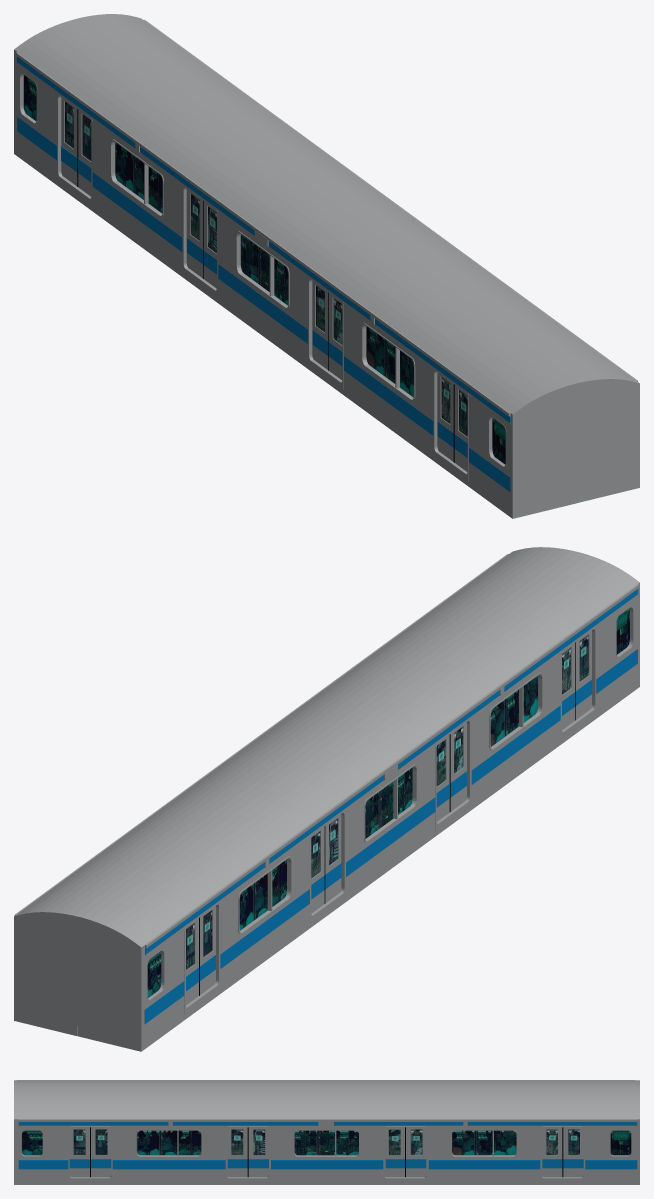
Rendered from trainG.glb.
3 renders of one model, top to bottom at view 1: azimuth 30°, elevation 25°; view 2: azimuth 150°, elevation 25°; view 3: azimuth 270°, elevation 25°, orthographic. The views are drawn at different scales.
Parts seen in each view (by area): view 1: train_bode.002, train_bode.001, 平面.001, ステッカー.005, 上ステッカー.002, 立方体.015, ステッカー.004, ドア.003, ドア.008, ドア.007, ドア.005, 立方体.026 (+5 smaller); view 2: train_bode.002, train_bode.001, 平面.001, ステッカー.005, 上ステッカー.002, 立方体.015, ステッカー.004, ドア.007, ドア.003, ドア.008, ドア.005, 立方体.026 (+5 smaller); view 3: train_bode.001, 平面, train_bode.002, ステッカー, 上ステッカー.001, 立方体.026, ステッカー.003, ドア.002, ドア.006, ドア.004, ドア.001, 立方体.031 (+8 smaller).
Boxes of the visible parts, left/top/right/bottom form: train_bode.002: left=14, top=18, right=576, bottom=518; train_bode.001: left=78, top=14, right=639, bottom=503; 平面.001: left=23, top=75, right=505, bottom=464; ステッカー.005: left=17, top=117, right=510, bottom=491; 上ステッカー.002: left=17, top=57, right=510, bottom=422; 立方体.015: left=16, top=52, right=510, bottom=416; ステッカー.004: left=60, top=146, right=467, bottom=457; ドア.003: left=186, top=189, right=216, bottom=288; ドア.008: left=437, top=372, right=467, bottom=471; ドア.007: left=312, top=281, right=342, bottom=380; ドア.005: left=61, top=97, right=91, bottom=196; 立方体.026: left=144, top=19, right=637, bottom=381; train_bode.002: left=77, top=551, right=639, bottom=1051; train_bode.001: left=14, top=547, right=575, bottom=1036; 平面.001: left=147, top=608, right=629, bottom=997; ステッカー.005: left=144, top=649, right=637, bottom=1023; 上ステッカー.002: left=145, top=589, right=638, bottom=954; 立方体.015: left=145, top=584, right=639, bottom=948; ステッカー.004: left=186, top=680, right=592, bottom=990; ドア.007: left=436, top=722, right=466, bottom=821; ドア.003: left=311, top=814, right=341, bottom=913; ドア.008: left=562, top=630, right=591, bottom=729; ドア.005: left=186, top=906, right=215, bottom=1005; 立方体.026: left=14, top=554, right=508, bottom=915; train_bode.001: left=14, top=1090, right=639, bottom=1184; 平面: left=21, top=1129, right=631, bottom=1155; train_bode.002: left=14, top=1080, right=639, bottom=1090; ステッカー: left=18, top=1160, right=637, bottom=1169; 上ステッカー.001: left=18, top=1122, right=637, bottom=1125; 立方体.026: left=18, top=1119, right=637, bottom=1121; ステッカー.003: left=69, top=1159, right=583, bottom=1168; ドア.002: left=384, top=1127, right=426, bottom=1177; ドア.006: left=227, top=1127, right=268, bottom=1177; ドア.004: left=69, top=1127, right=111, bottom=1177; ドア.001: left=542, top=1127, right=583, bottom=1177; 立方体.031: left=18, top=1125, right=637, bottom=1126.
Bounding box in the file's own units: 2.05 × 1.8 × 13.6.
Materials: 12 (2 with a texture image).
